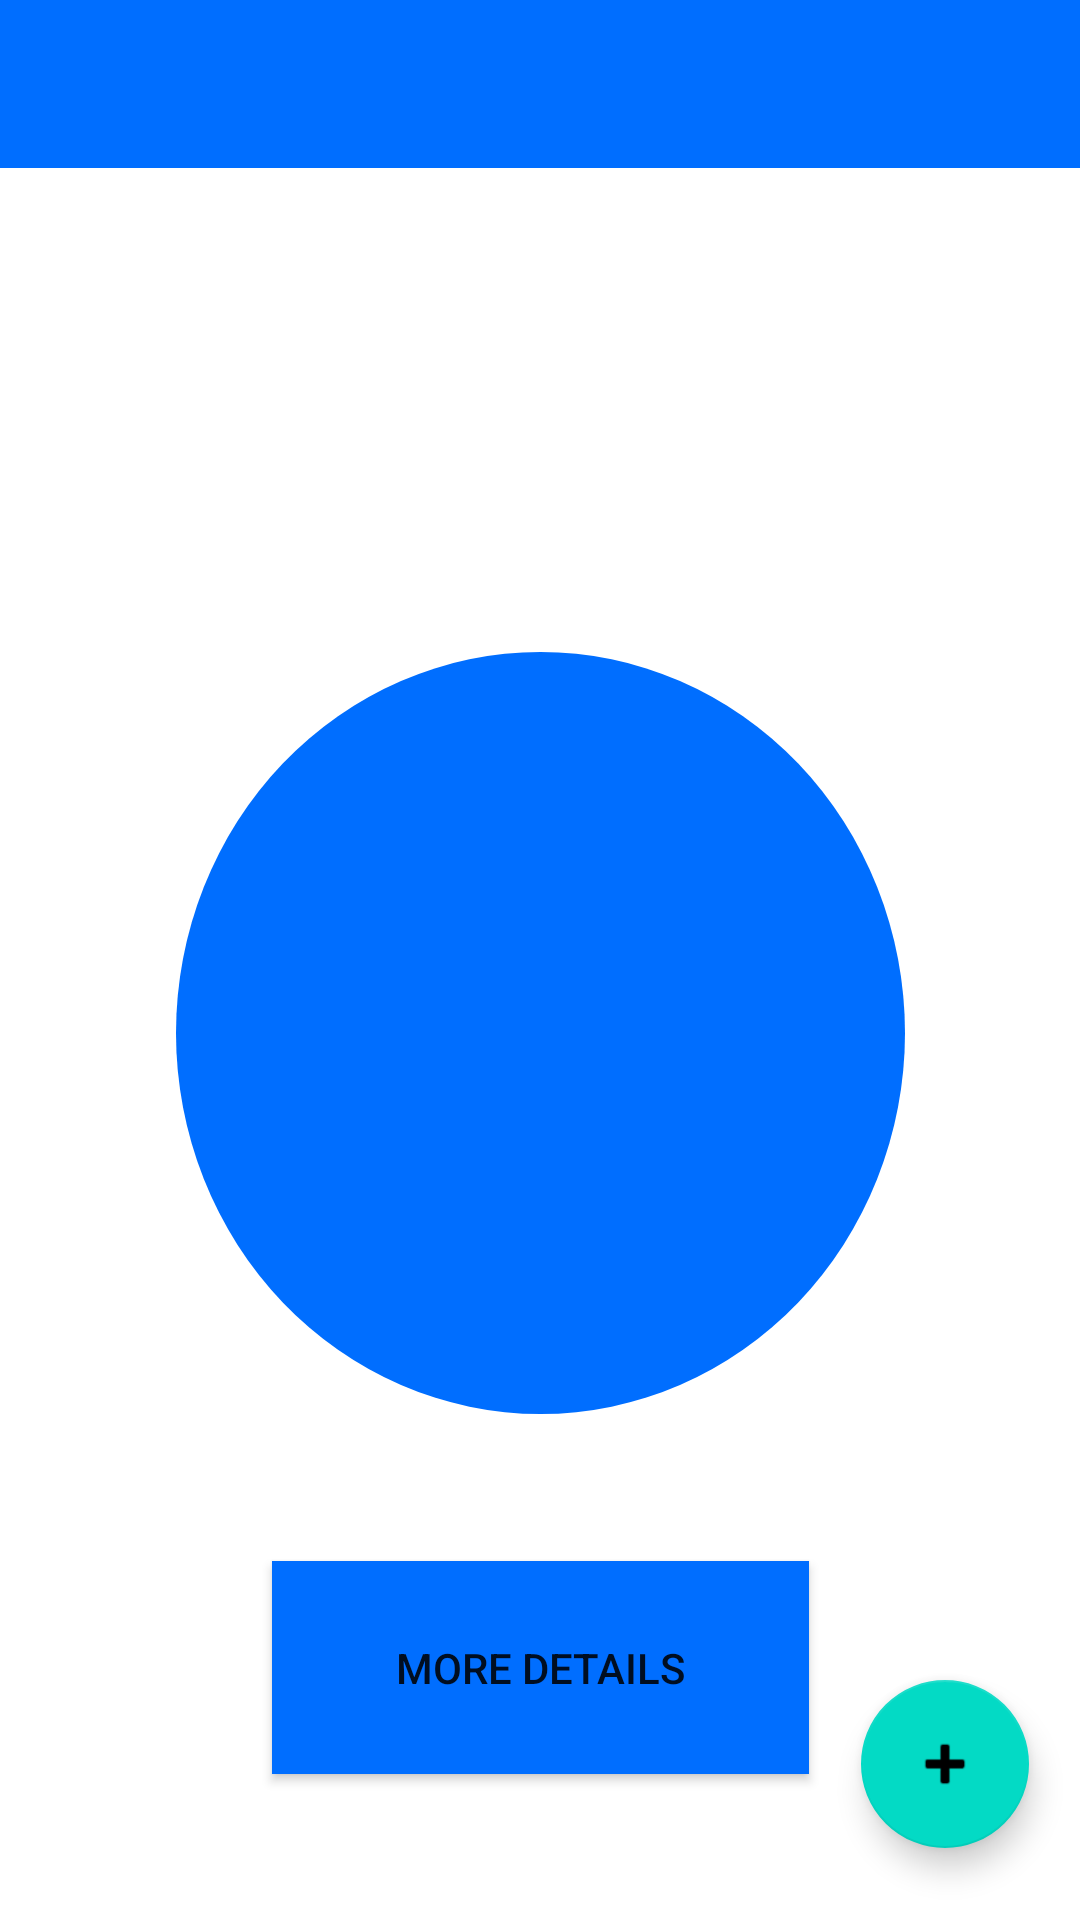

Icon bounding boxes for this 1080px×1920px phone screenshot, format (x1, y1, x2, y2):
add: (861, 1680, 1029, 1848)
